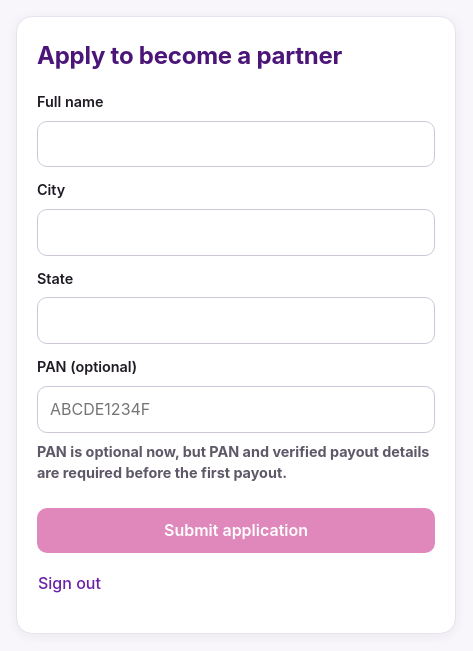
Test: application refusals (contract) › 409 + ACTIVE: "already a partner", sign in again to open it
This screenshot has width=473, height=651.
Type "Meena R" into the field labelled "Full name" at (236, 144), box 37,121 -> 435,167
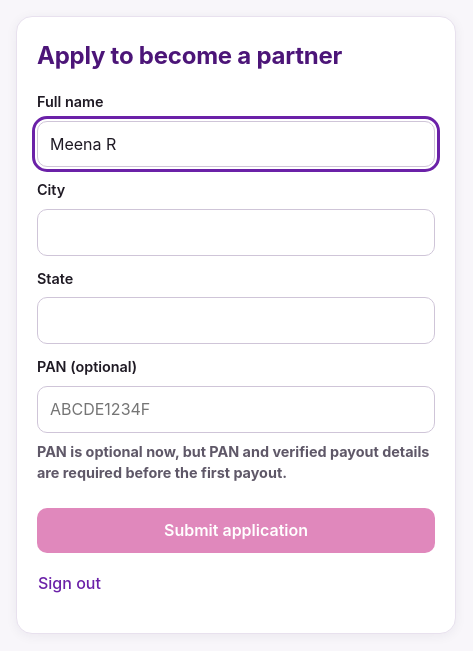
Type "Coimbatore" into the field labelled "City" at (236, 232), box 37,209 -> 435,256
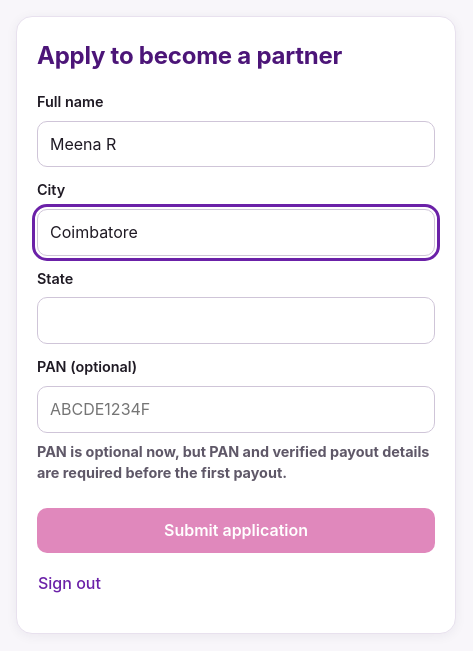
Type "Tamil Nadu" into the field labelled "State" at (236, 321), box 37,297 -> 435,344
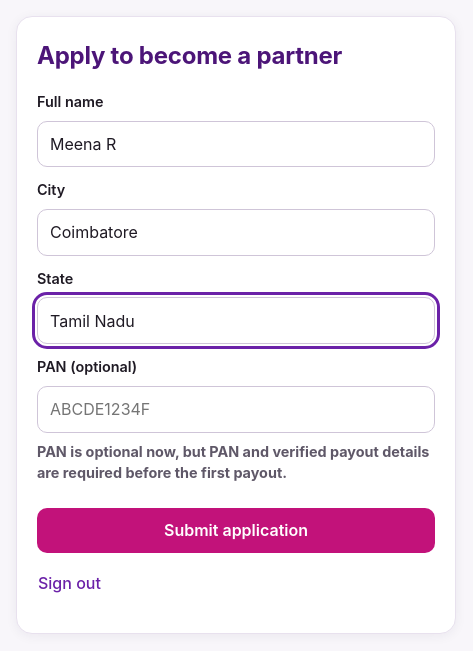
Click the button "Submit application" at (236, 530), box 37,508 -> 435,553
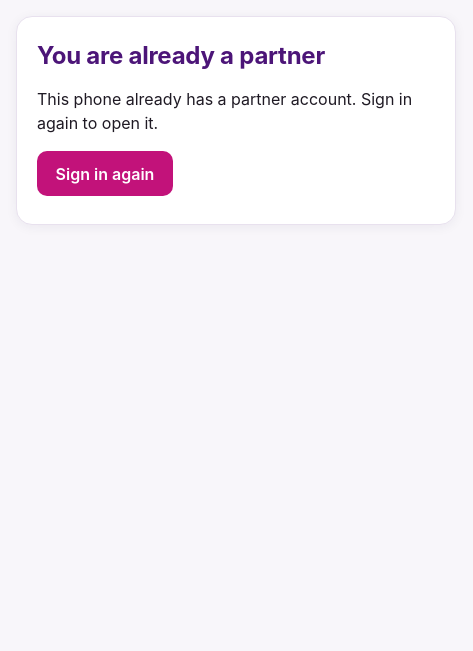
Expected: the heading "You are already a partner" is shown, 37,41 -> 325,70
Expected: the button "Sign in again" is shown, 37,151 -> 173,196
